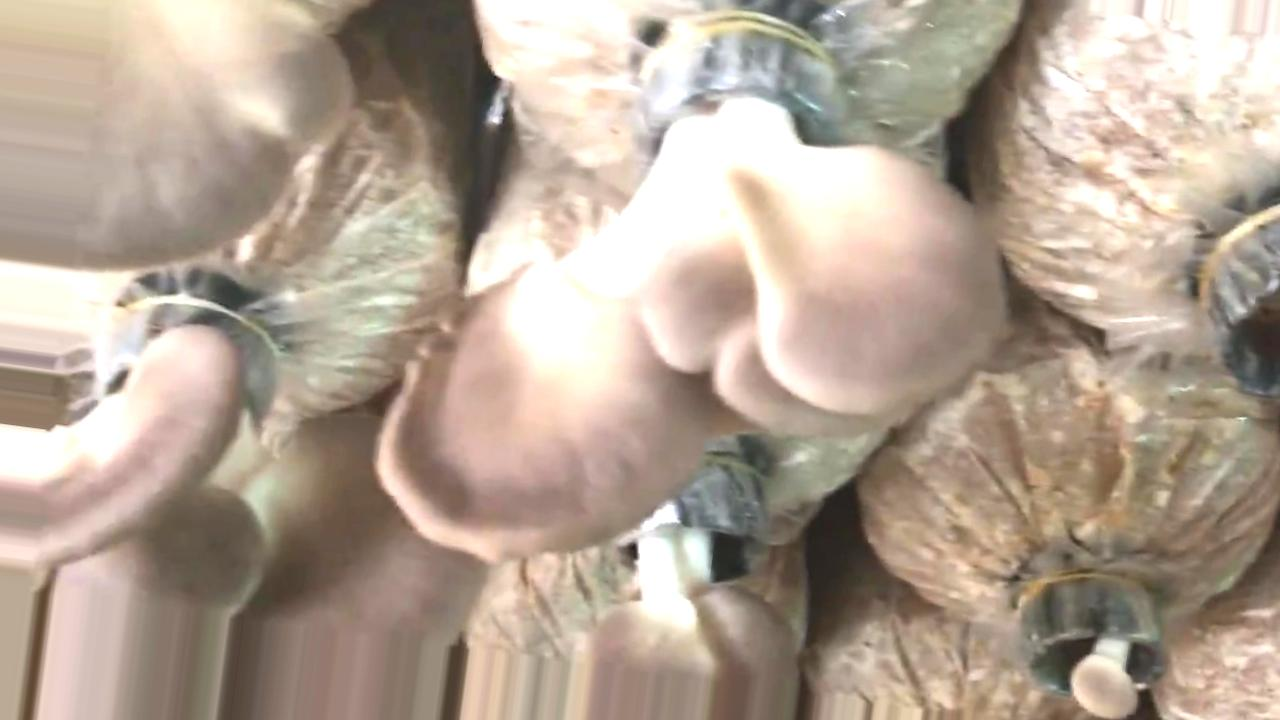nam: (381, 20, 1010, 555), (1, 288, 485, 720), (1, 1, 352, 273), (566, 445, 798, 720), (1016, 579, 1164, 716)
